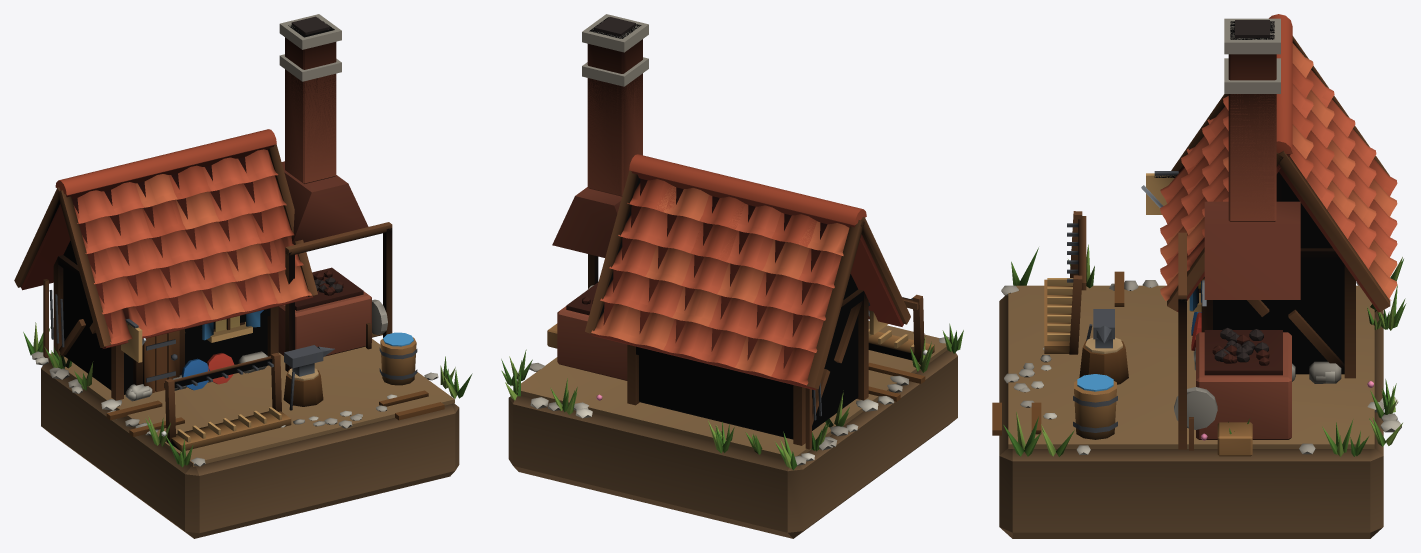
File: weaponsmith.glb
The picture shows the model from 3 angles, left to right: view 1: azimuth 30°, elevation 25°; view 2: azimuth 150°, elevation 25°; view 3: azimuth 270°, elevation 25°; orthographic projection. The views are drawn at different scales.
Parts seen in each view (by area): view 1: weaponsmith_l1, weaponsmith_l3, weaponsmith_l2; view 2: weaponsmith_l1, weaponsmith_l3, weaponsmith_l2; view 3: weaponsmith_l1, weaponsmith_l3, weaponsmith_l2.
Boxes of the visible parts, <box> form: weaponsmith_l1: <box>14,54,472,538</box>; weaponsmith_l3: <box>31,14,455,466</box>; weaponsmith_l2: <box>35,270,397,424</box>; weaponsmith_l1: <box>508,57,963,538</box>; weaponsmith_l3: <box>505,14,949,465</box>; weaponsmith_l2: <box>501,185,849,461</box>; weaponsmith_l1: <box>992,14,1406,538</box>; weaponsmith_l3: <box>1001,18,1402,456</box>; weaponsmith_l2: <box>1013,282,1401,456</box>.
Bounding box in the file's own units: 1.01 × 1.23 × 0.9488.
